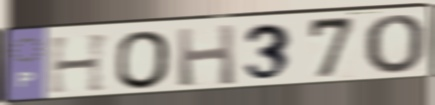3: (242, 20, 298, 84)
7: (306, 16, 358, 83)
H: (48, 31, 114, 96), (174, 22, 238, 89)
O: (361, 13, 429, 77), (113, 28, 173, 91)
